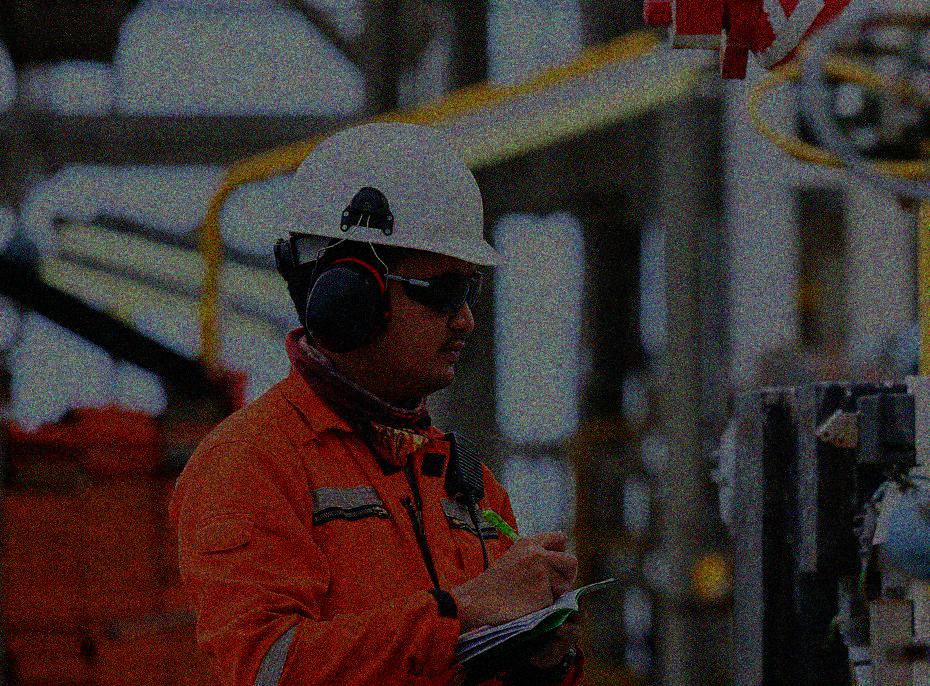helmet: (271, 121, 509, 397)
